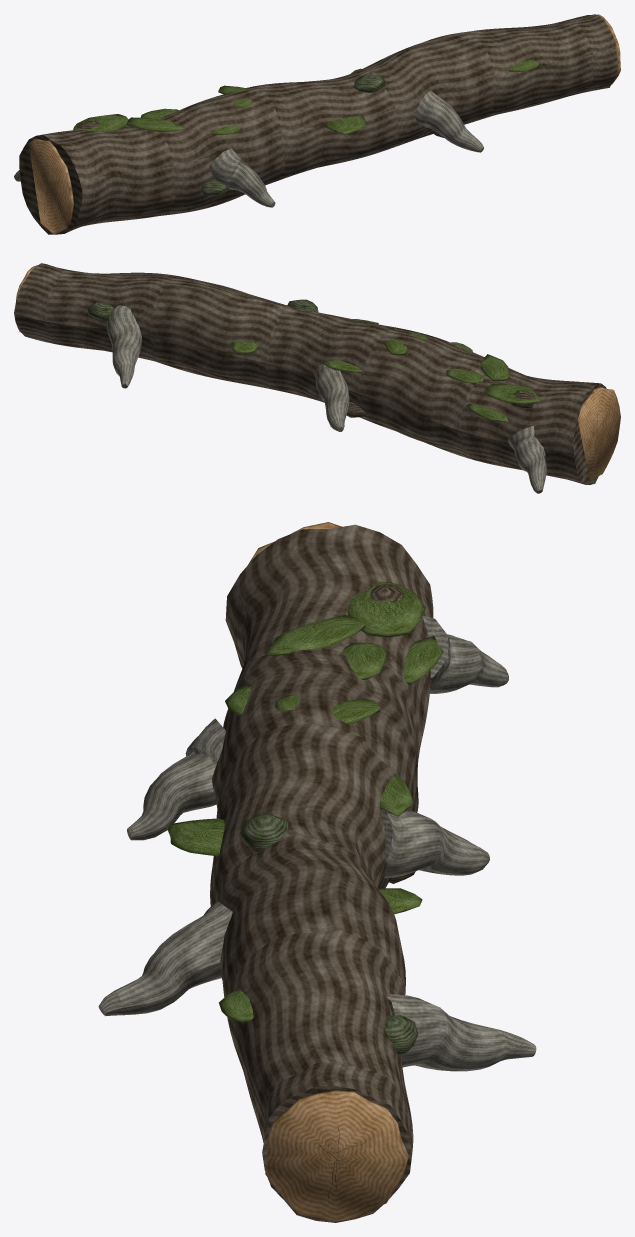
The model's file is PZ_FallenWood_01_FallenPine_Log_3p6m.glb.
3 renders of one model, top to bottom at view 1: azimuth 30°, elevation 25°; view 2: azimuth 150°, elevation 25°; view 3: azimuth 270°, elevation 25°, orthographic. The views are drawn at different scales.
Parts seen in each view (by area): view 1: 01_FallenPine_Log_3p6m_BarkTrunk_MESH, 01_FallenPine_Log_3p6m_ExposedEndgrain_0_MESH, 01_FallenPine_Log_3p6m_BrokenBranchStub_3_MESH, 01_FallenPine_Log_3p6m_BrokenBranchStub_1_MESH, 01_FallenPine_Log_3p6m_MossClump_09_MESH, 01_FallenPine_Log_3p6m_MossClump_03_MESH, 01_FallenPine_Log_3p6m_MossClump_04_MESH, 01_FallenPine_Log_3p6m_Knot_03_MESH, 01_FallenPine_Log_3p6m_Knot_01_MESH; view 2: 01_FallenPine_Log_3p6m_BarkTrunk_MESH, 01_FallenPine_Log_3p6m_ExposedEndgrain_0_MESH, 01_FallenPine_Log_3p6m_BrokenBranchStub_4_MESH, 01_FallenPine_Log_3p6m_BrokenBranchStub_2_MESH, 01_FallenPine_Log_3p6m_BrokenBranchStub_0_MESH, 01_FallenPine_Log_3p6m_MossClump_03_MESH, 01_FallenPine_Log_3p6m_MossClump_09_MESH, 01_FallenPine_Log_3p6m_MossClump_07_MESH, 01_FallenPine_Log_3p6m_MossClump_05_MESH, 01_FallenPine_Log_3p6m_Knot_05_MESH; view 3: 01_FallenPine_Log_3p6m_BarkTrunk_MESH, 01_FallenPine_Log_3p6m_ExposedEndgrain_1_MESH, 01_FallenPine_Log_3p6m_BrokenBranchStub_3_MESH, 01_FallenPine_Log_3p6m_BrokenBranchStub_4_MESH, 01_FallenPine_Log_3p6m_BrokenBranchStub_1_MESH, 01_FallenPine_Log_3p6m_BrokenBranchStub_2_MESH, 01_FallenPine_Log_3p6m_BrokenBranchStub_0_MESH, 01_FallenPine_Log_3p6m_MossClump_03_MESH, 01_FallenPine_Log_3p6m_MossClump_09_MESH, 01_FallenPine_Log_3p6m_MossClump_04_MESH, 01_FallenPine_Log_3p6m_Knot_03_MESH, 01_FallenPine_Log_3p6m_MossClump_05_MESH (+3 smaller).
Part boxes in pixels (x1,y1,x2,y2): 01_FallenPine_Log_3p6m_BarkTrunk_MESH: (19,14,617,234); 01_FallenPine_Log_3p6m_ExposedEndgrain_0_MESH: (29,138,73,234); 01_FallenPine_Log_3p6m_BrokenBranchStub_3_MESH: (414,90,483,152); 01_FallenPine_Log_3p6m_BrokenBranchStub_1_MESH: (209,148,275,207); 01_FallenPine_Log_3p6m_MossClump_09_MESH: (126,117,186,132); 01_FallenPine_Log_3p6m_MossClump_03_MESH: (73,114,128,131); 01_FallenPine_Log_3p6m_MossClump_04_MESH: (326,116,366,134); 01_FallenPine_Log_3p6m_Knot_03_MESH: (354,74,385,92); 01_FallenPine_Log_3p6m_Knot_01_MESH: (201,180,229,196); 01_FallenPine_Log_3p6m_BarkTrunk_MESH: (15,263,606,484); 01_FallenPine_Log_3p6m_ExposedEndgrain_0_MESH: (578,387,620,481); 01_FallenPine_Log_3p6m_BrokenBranchStub_4_MESH: (106,305,141,388); 01_FallenPine_Log_3p6m_BrokenBranchStub_2_MESH: (314,364,349,431); 01_FallenPine_Log_3p6m_BrokenBranchStub_0_MESH: (508,425,546,493); 01_FallenPine_Log_3p6m_MossClump_03_MESH: (484,383,540,403); 01_FallenPine_Log_3p6m_MossClump_09_MESH: (480,354,509,381); 01_FallenPine_Log_3p6m_MossClump_07_MESH: (446,369,483,383); 01_FallenPine_Log_3p6m_MossClump_05_MESH: (466,403,508,421); 01_FallenPine_Log_3p6m_Knot_05_MESH: (88,302,113,320); 01_FallenPine_Log_3p6m_BarkTrunk_MESH: (210,524,433,1222); 01_FallenPine_Log_3p6m_ExposedEndgrain_1_MESH: (265,1090,408,1220); 01_FallenPine_Log_3p6m_BrokenBranchStub_3_MESH: (98,901,232,1016); 01_FallenPine_Log_3p6m_BrokenBranchStub_4_MESH: (387,994,536,1071); 01_FallenPine_Log_3p6m_BrokenBranchStub_1_MESH: (127,718,225,840); 01_FallenPine_Log_3p6m_BrokenBranchStub_2_MESH: (380,809,489,878); 01_FallenPine_Log_3p6m_BrokenBranchStub_0_MESH: (422,615,508,693); 01_FallenPine_Log_3p6m_MossClump_03_MESH: (347,581,425,637); 01_FallenPine_Log_3p6m_MossClump_09_MESH: (265,615,365,655); 01_FallenPine_Log_3p6m_MossClump_04_MESH: (166,818,224,856); 01_FallenPine_Log_3p6m_Knot_03_MESH: (240,812,288,851); 01_FallenPine_Log_3p6m_MossClump_05_MESH: (403,636,443,684).
Bounding box in the file's own units: 3.66 × 0.625 × 1.24.
6 materials, 6 textured.
